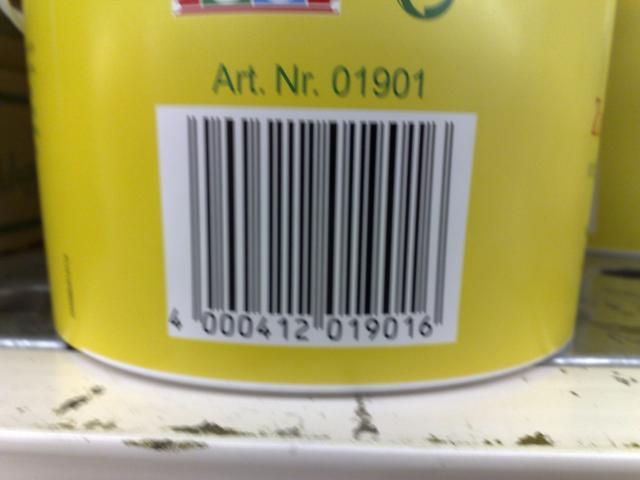Barcode: (165, 113, 463, 351)
